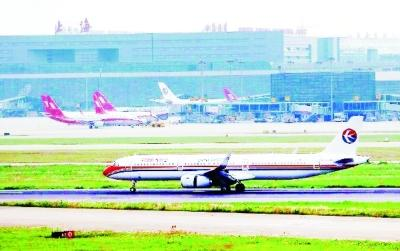airplane: (99, 114, 378, 194)
